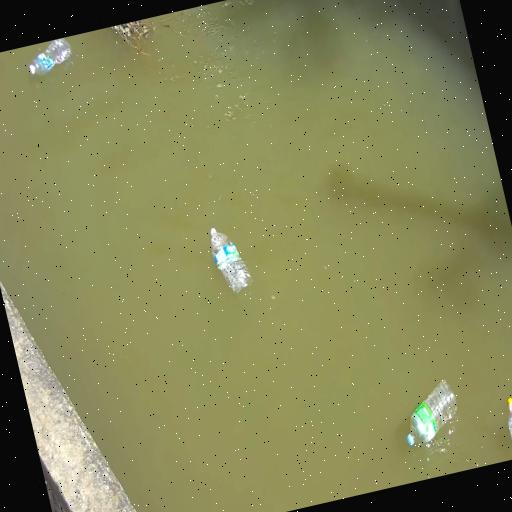plastic: (407, 381, 456, 445), (210, 228, 251, 294), (29, 38, 70, 75), (507, 398, 511, 438)
twig: (110, 11, 188, 65)
